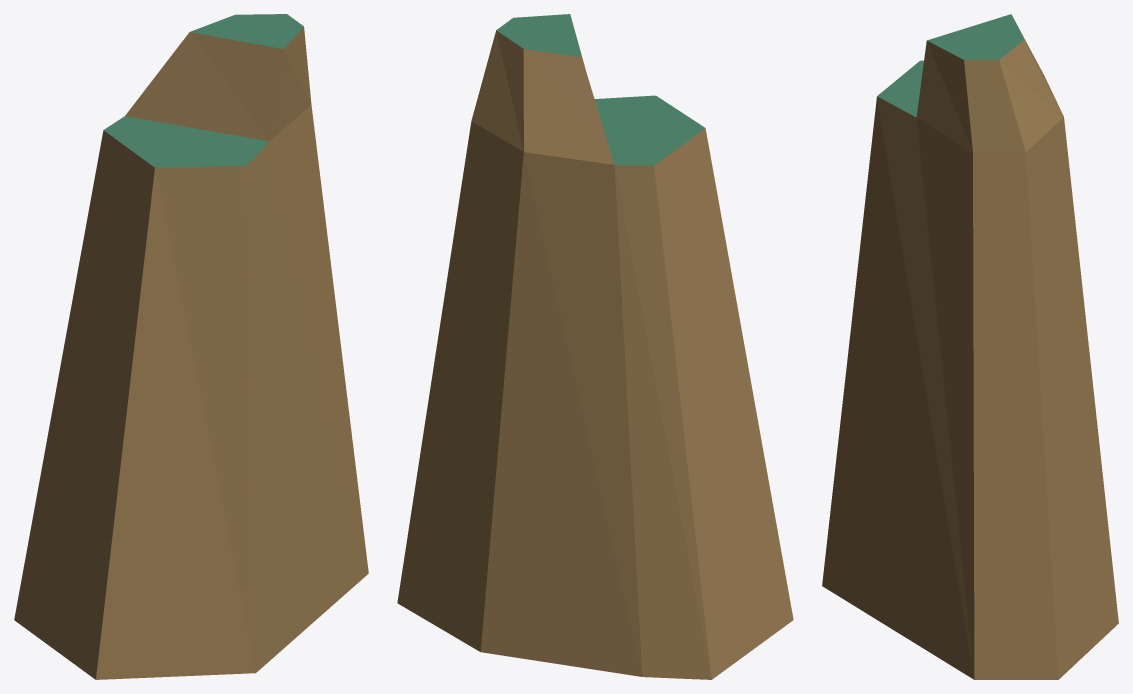
Rendered from Rock_Medium_Mesa_Eroded_Moss_Grass_01.FBX.
The picture shows the model from 3 angles, left to right: view 1: azimuth 30°, elevation 25°; view 2: azimuth 150°, elevation 25°; view 3: azimuth 270°, elevation 25°; orthographic projection. The views are drawn at different scales.
Parts seen in each view (by area): view 1: Rock_Medium_Mesa_Eroded_Moss_Grass_01; view 2: Rock_Medium_Mesa_Eroded_Moss_Grass_01; view 3: Rock_Medium_Mesa_Eroded_Moss_Grass_01.
Part boxes in pixels (x1,y1,x2,y2): Rock_Medium_Mesa_Eroded_Moss_Grass_01: [14, 14, 368, 679]; Rock_Medium_Mesa_Eroded_Moss_Grass_01: [397, 14, 793, 679]; Rock_Medium_Mesa_Eroded_Moss_Grass_01: [822, 14, 1118, 679].
Size of the model in its own units: 2406 by 4160 by 1914.
